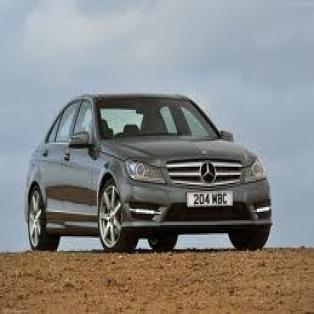Auto: (18, 62, 275, 262)
